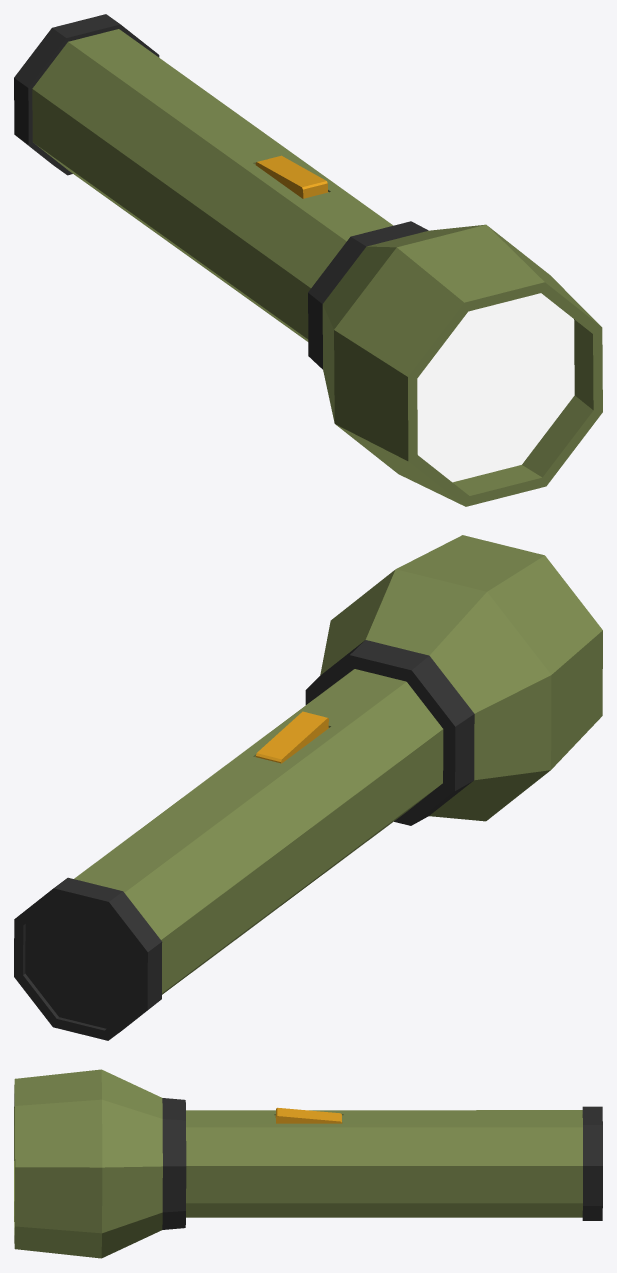
The model's file is Flashlight.glb.
The picture shows the model from 3 angles, top to bottom: view 1: azimuth 30°, elevation 25°; view 2: azimuth 150°, elevation 25°; view 3: azimuth 270°, elevation 25°; orthographic projection. The views are drawn at different scales.
Visible parts, largest first — view 1: Flashlight; view 2: Flashlight; view 3: Flashlight.
Part boxes in pixels (left/top/right/bottom): Flashlight: left=14, top=14, right=602, bottom=506; Flashlight: left=14, top=535, right=602, bottom=1040; Flashlight: left=14, top=1069, right=602, bottom=1258.
Bounding box in the file's own units: 0.3222 × 0.3222 × 1.08.
Materials: 2 (1 with a texture image).
